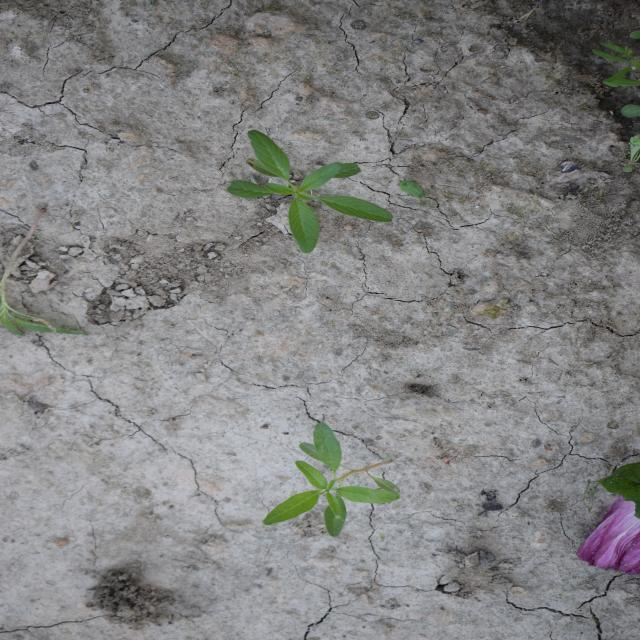Waterhemp: (224, 128, 394, 255), (261, 421, 403, 537)
